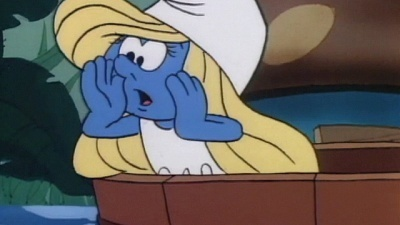smurf: (53, 1, 322, 175)
